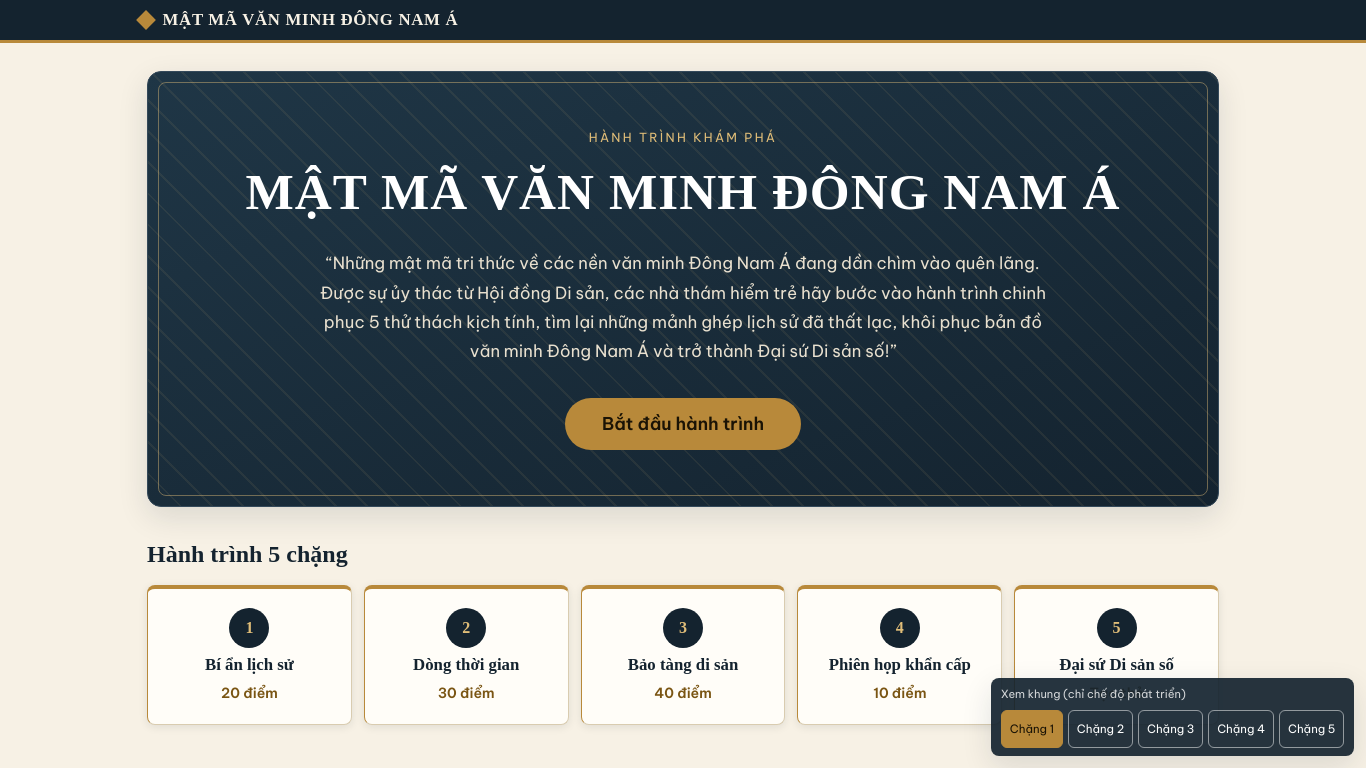
Scenario: khung giao diện › biểu mẫu thiếu thông tin hiện thông báo tại trường và không xóa dữ liệu đã nhập
The image size is (1366, 768).
Click the button "Bắt đầu hành trình" at (683, 424), box [565,398,801,450]
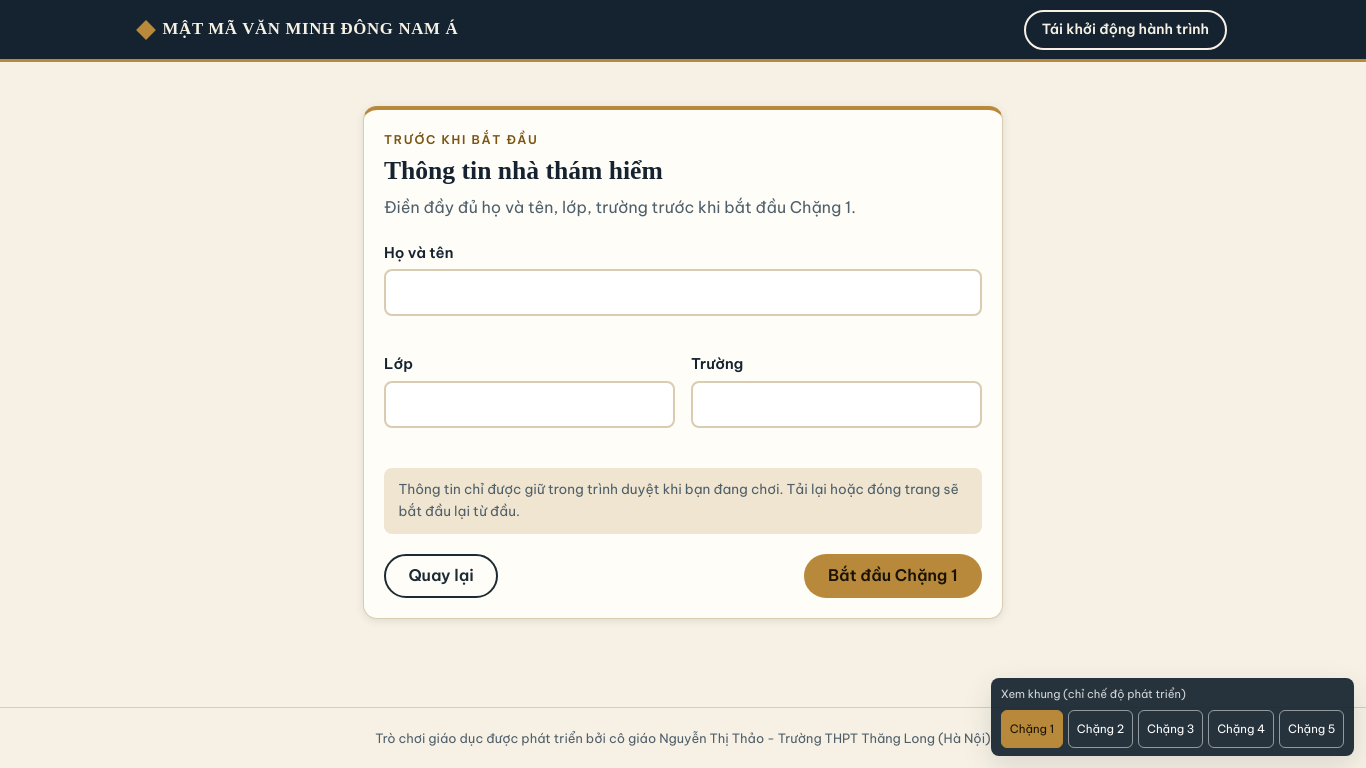
Type "Nguyễn Văn A" into the field labelled "Họ và tên" at (683, 293), box [384,269,982,316]
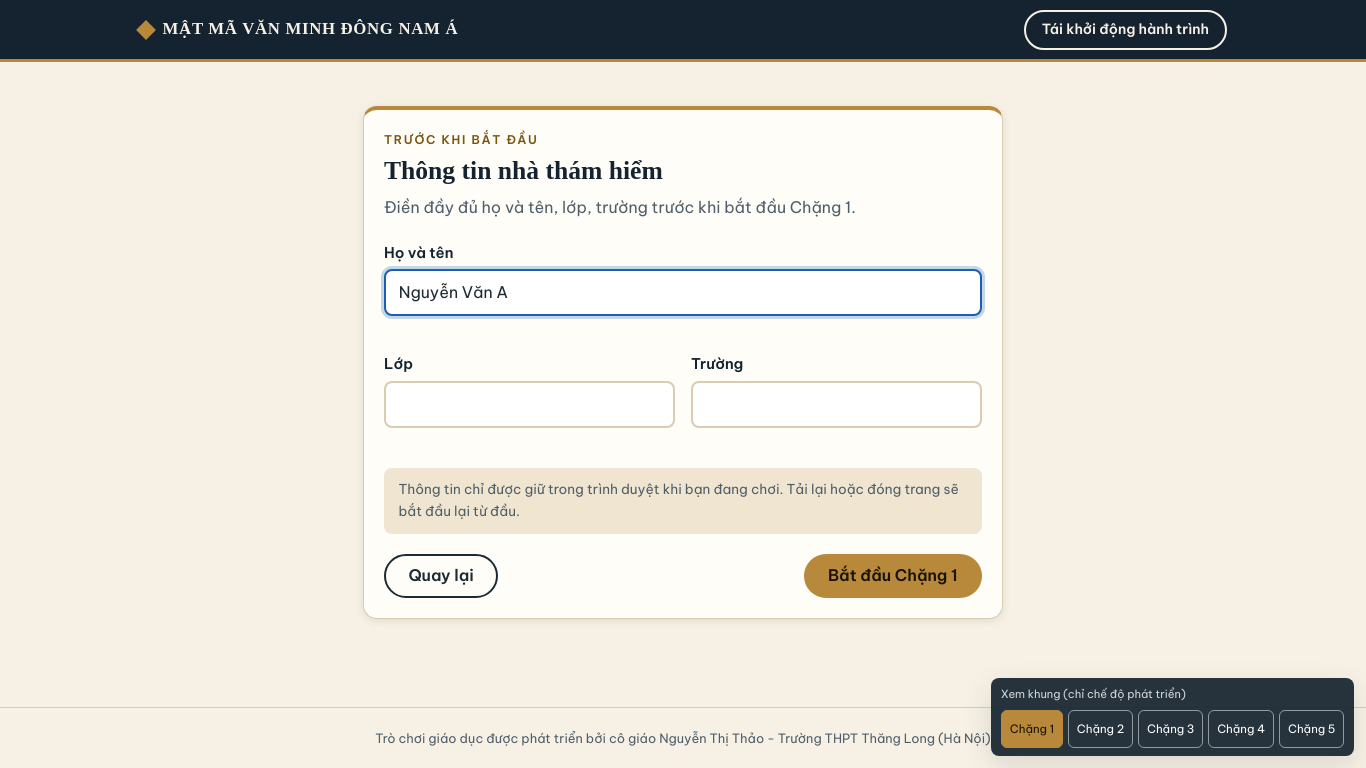
Click the button "Bắt đầu Chặng 1" at (893, 576), box [804,554,982,598]
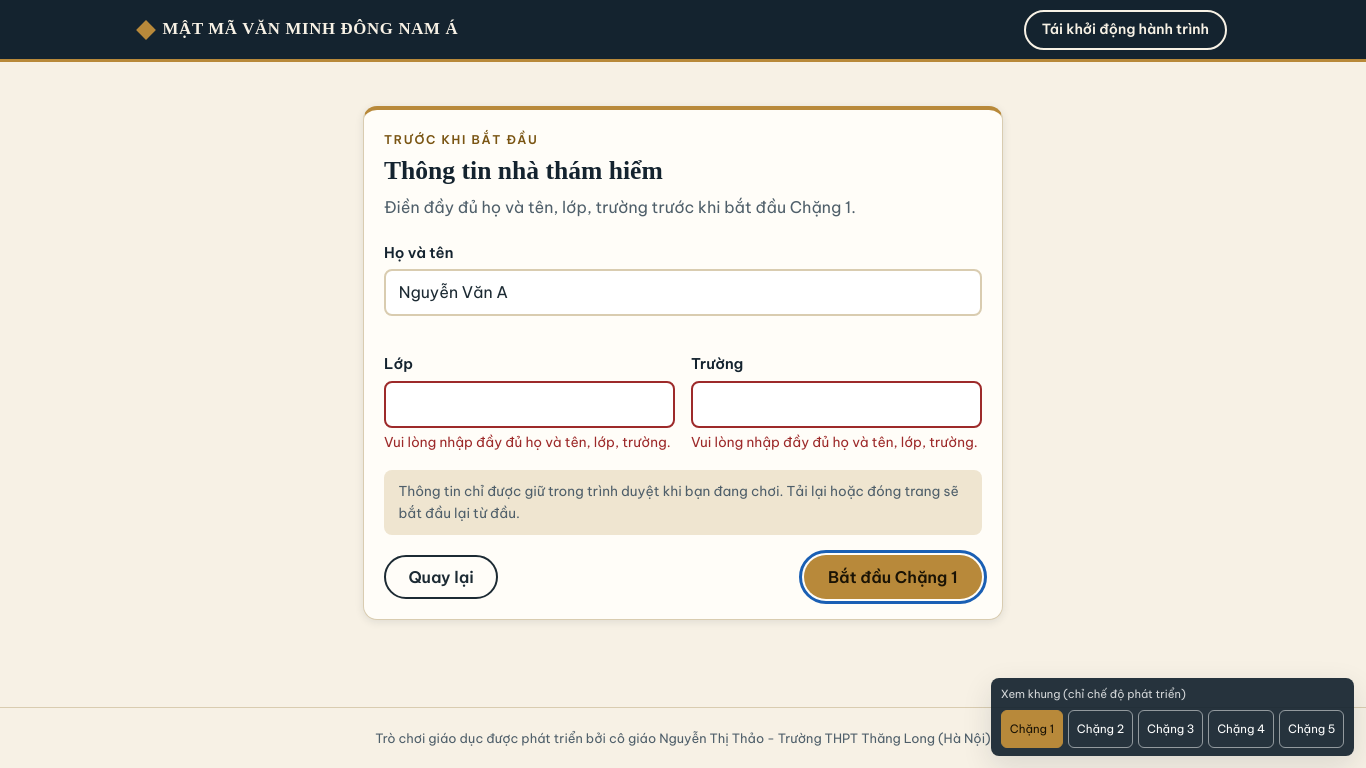
Expected: the number of messages is 2, [384,432,675,454]; [691,432,982,454]
Expected: the 1st message "Vui lòng nhập đầy đủ họ và tên, lớp, trường." is shown, [384,432,675,454]
Expected: the 2nd message "Vui lòng nhập đầy đủ họ và tên, lớp, trường." is shown, [691,432,982,454]
